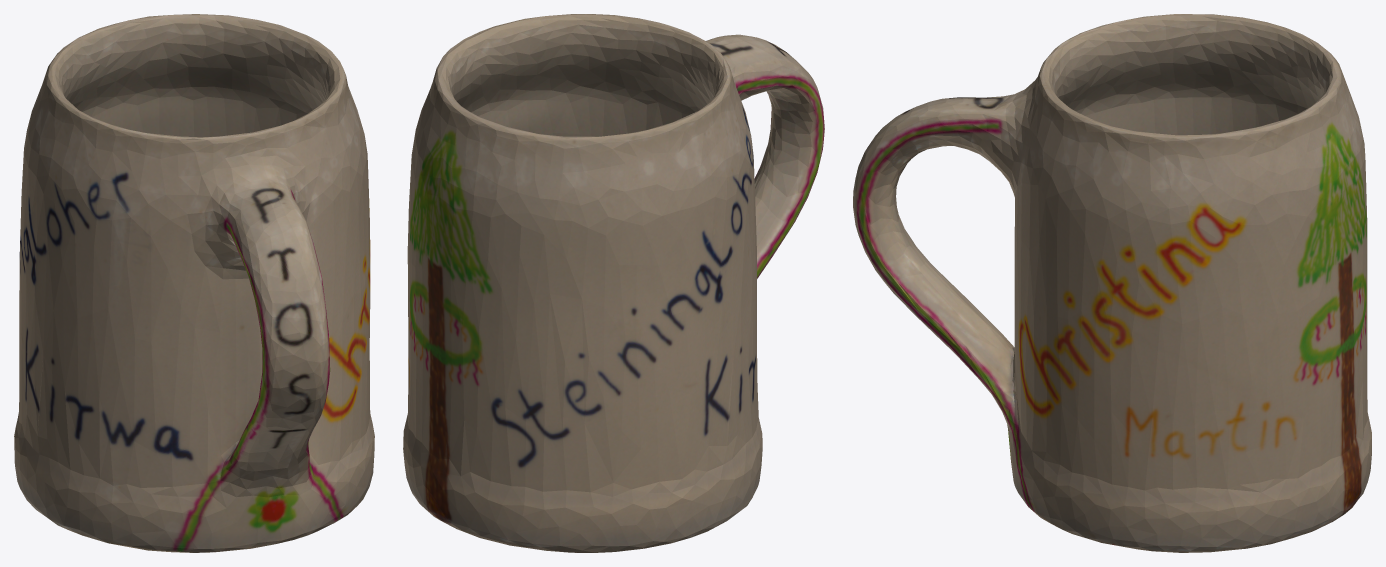
The model's file is F1D4CD5E-BD3F-2048-8B89-DDA65F1E8B27_2k.glb.
3 renders of one model, left to right at view 1: azimuth 30°, elevation 25°; view 2: azimuth 150°, elevation 25°; view 3: azimuth 270°, elevation 25°, orthographic.
Parts seen in each view (by area): view 1: Krug Steiningloh_4k_2k; view 2: Krug Steiningloh_4k_2k; view 3: Krug Steiningloh_4k_2k.
Part boxes in pixels (bbox=[...]): Krug Steiningloh_4k_2k: bbox=[14, 14, 374, 552]; Krug Steiningloh_4k_2k: bbox=[403, 14, 824, 552]; Krug Steiningloh_4k_2k: bbox=[853, 14, 1371, 552].
Size of the model in its own units: 0.1014 by 0.126 by 0.1456.
Materials: 1 (1 with a texture image).
